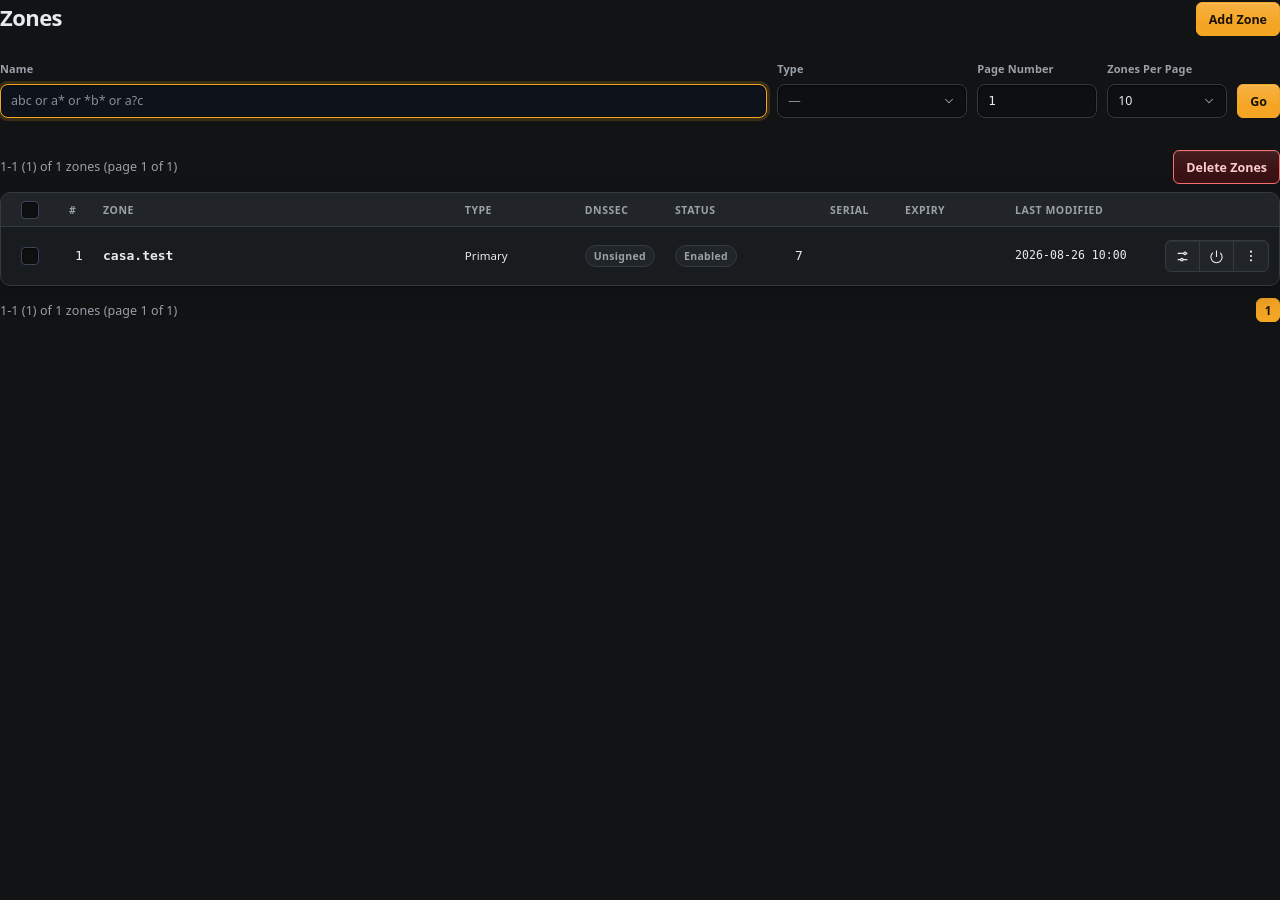
Test: zone list › disabling a zone asks first, with the upstream text
Check: the button "casa.test" is shown, box [103, 246, 174, 266]
Step 1. Click the button named "Disable Zone" → point(1216, 256), box [1199, 241, 1233, 271]
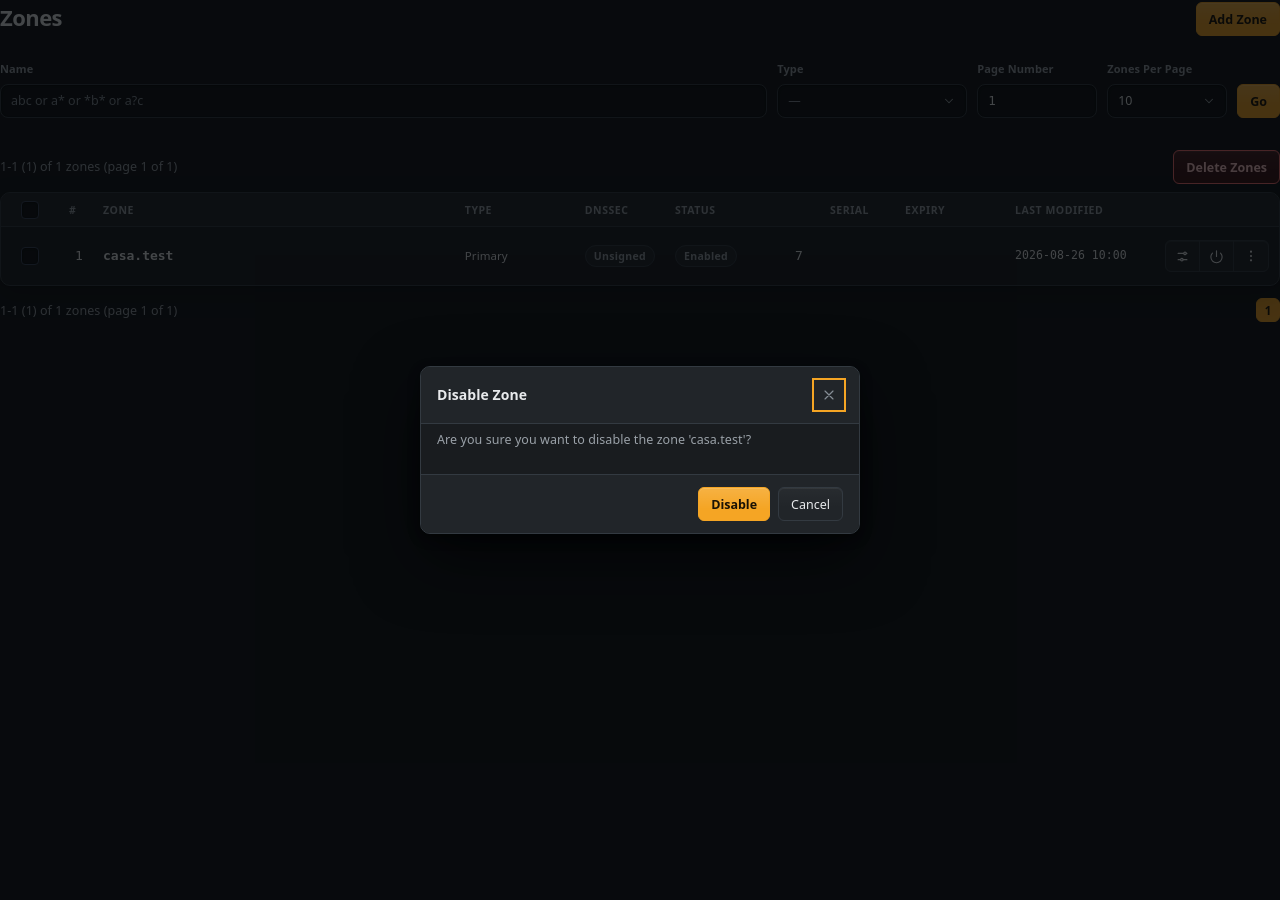
Check: the text "Are you sure you want to disable the zone 'casa.test'?" is shown, box [437, 431, 751, 448]
Step 2. Click the button "Disable" → point(734, 504), box [698, 487, 770, 521]
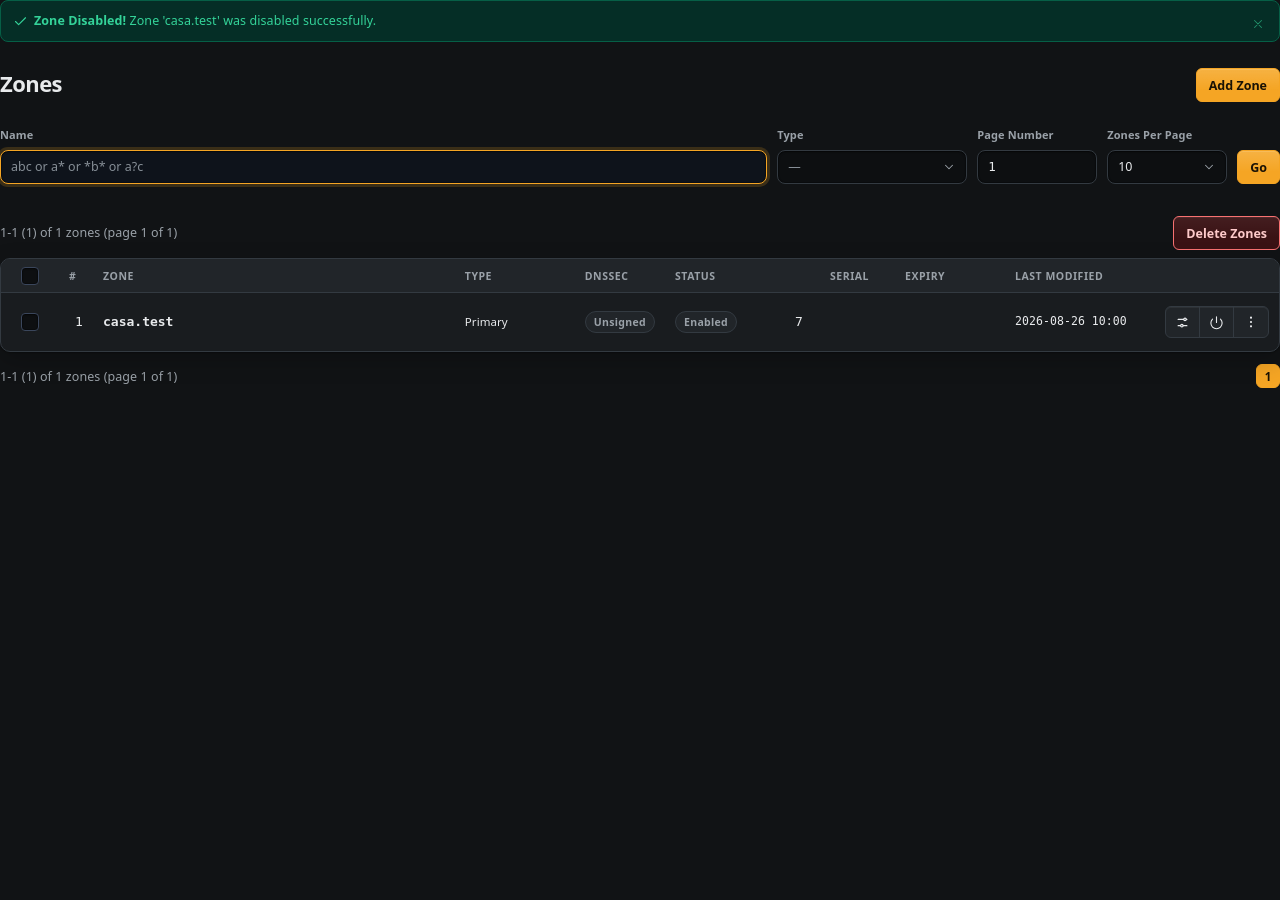
Check: the text "Zone 'casa.test' was disabled successfully." is shown, box [130, 12, 376, 29]
